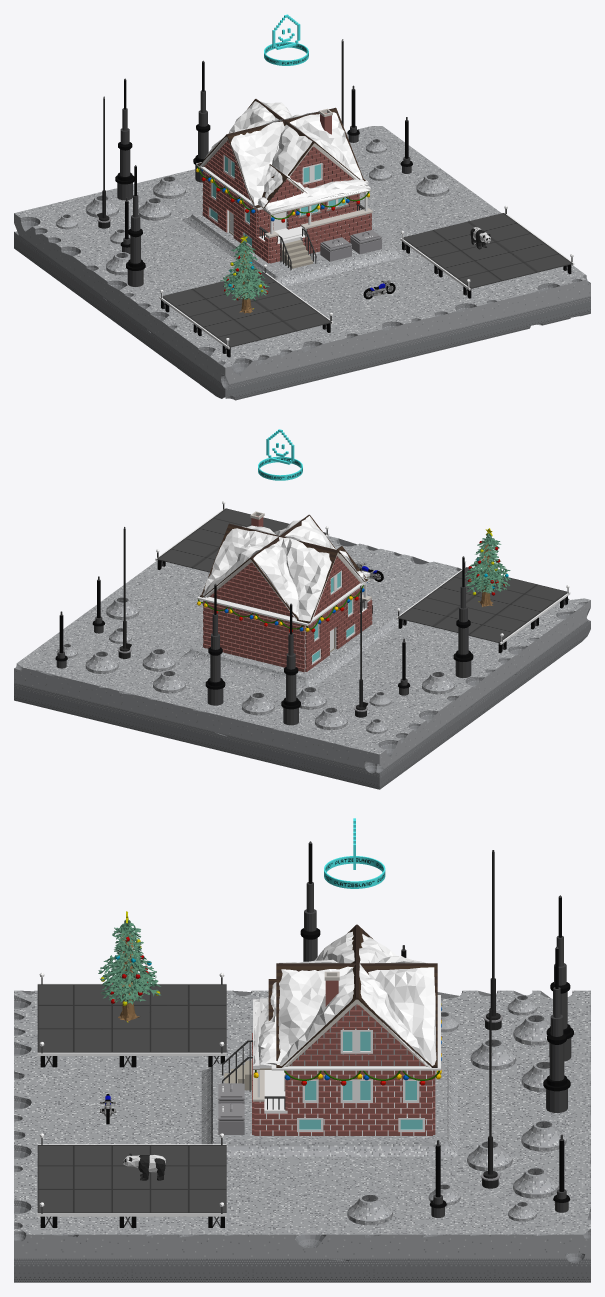
The picture shows the model from 3 angles, top to bottom: view 1: azimuth 30°, elevation 25°; view 2: azimuth 150°, elevation 25°; view 3: azimuth 270°, elevation 25°; orthographic projection. The views are drawn at different scales.
Visible parts, largest first — view 1: Cube.027, Cube.1419, Cube.026, Cube.025, Cube.028, OBJRANDOM_CHRISTMAS_TREE, Cylinder.021, Cylinder.020, TYPE_PREMIUM, Cylinder.017, Cube.029, Cube.030 (+3 smaller); view 2: Cube.027, Cube.1419, Cube.025, Cube.028, Cube.026, OBJRANDOM_CHRISTMAS_TREE, Cylinder.017, Cylinder.021, Cylinder.020, TYPE_PREMIUM, Cylinder.030, Cylinder.029 (+7 smaller); view 3: Cube.027, Cube.1419, Cube.026, Cube.025, Cube.028, OBJRANDOM_CHRISTMAS_TREE, Cylinder.017, Cylinder.020, Cylinder.021, TYPE_PREMIUM, Cylinder.033, Cylinder.031 (+11 smaller).
Boxes of the visible parts, left/top/right/bottom form: Cube.027: left=14, top=126, right=590, bottom=400; Cube.1419: left=196, top=99, right=372, bottom=269; Cube.026: left=400, top=205, right=574, bottom=298; Cube.025: left=159, top=264, right=333, bottom=357; Cube.028: left=182, top=211, right=403, bottom=286; OBJRANDOM_CHRISTMAS_TREE: left=220, top=235, right=269, bottom=313; Cylinder.021: left=126, top=165, right=145, bottom=286; Cylinder.020: left=115, top=78, right=134, bottom=200; TYPE_PREMIUM: left=264, top=14, right=308, bottom=65; Cylinder.017: left=193, top=60, right=210, bottom=182; Cube.029: left=320, top=237, right=351, bottom=261; Cube.030: left=350, top=230, right=381, bottom=254; Cube.027: left=14, top=536, right=590, bottom=789; Cube.1419: left=197, top=511, right=372, bottom=672; Cube.025: left=396, top=560, right=570, bottom=653; Cube.028: left=181, top=610, right=398, bottom=688; Cube.026: left=155, top=501, right=329, bottom=572; OBJRANDOM_CHRISTMAS_TREE: left=464, top=528, right=510, bottom=606; Cylinder.017: left=205, top=583, right=225, bottom=705; Cylinder.021: left=453, top=556, right=473, bottom=677; Cylinder.020: left=281, top=603, right=300, bottom=725; TYPE_PREMIUM: left=258, top=429, right=302, bottom=480; Cylinder.030: left=142, top=648, right=175, bottom=671; Cylinder.029: left=153, top=670, right=185, bottom=693; Cube.027: left=14, top=990, right=590, bottom=1282; Cube.1419: left=222, top=924, right=441, bottom=1135; Cube.026: left=37, top=1133, right=226, bottom=1227; Cube.025: left=37, top=973, right=226, bottom=1067; Cube.028: left=201, top=1063, right=457, bottom=1156; OBJRANDOM_CHRISTMAS_TREE: left=98, top=911, right=160, bottom=1022; Cylinder.017: left=543, top=946, right=570, bottom=1112; Cylinder.020: left=546, top=895, right=573, bottom=1061; Cylinder.021: left=300, top=841, right=320, bottom=961; TYPE_PREMIUM: left=324, top=818, right=385, bottom=888; Cylinder.033: left=347, top=1194, right=392, bottom=1225; Cylinder.031: left=513, top=1167, right=558, bottom=1198.
Bounding box in the file's own units: 4000 × 2719 × 4000.
Materials: 40 (5 with a texture image).
